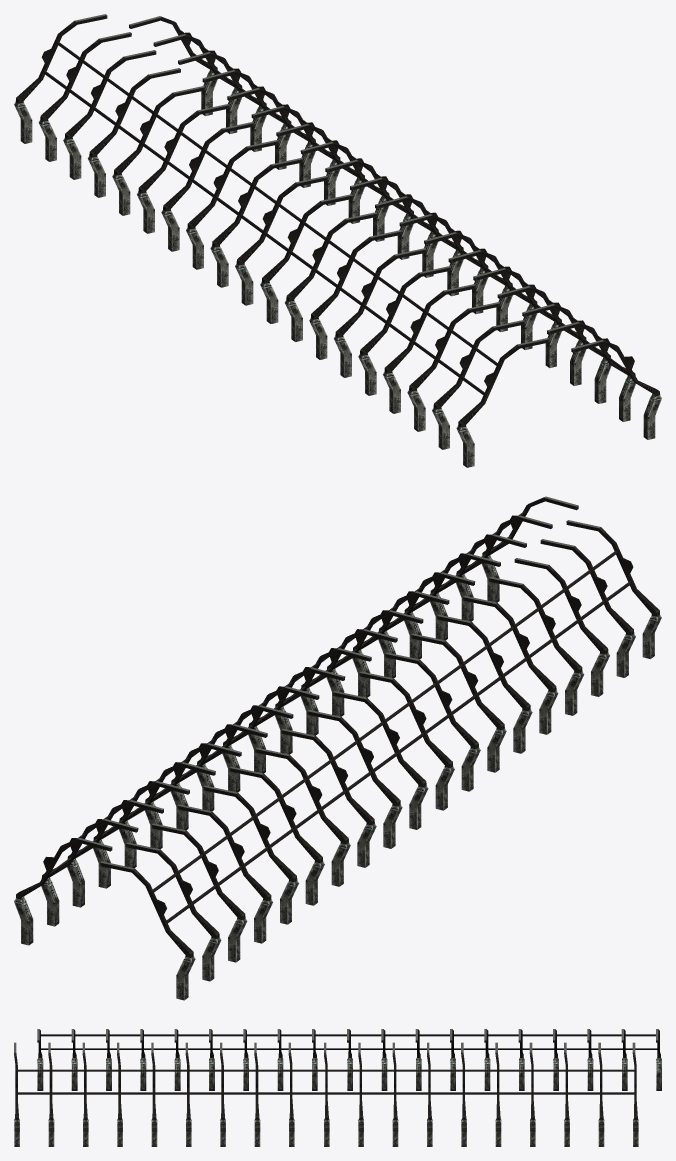
File: Tunnel.fbx
3 views of the same model, one above another, from view 1: azimuth 30°, elevation 25°; view 2: azimuth 150°, elevation 25°; view 3: azimuth 270°, elevation 25° (orthographic). The views are drawn at different scales.
Visible parts, largest first — view 1: polySurface142; view 2: polySurface142; view 3: polySurface142.
Part boxes in pixels (x1,y1,x2,y2): polySurface142: (14, 14, 661, 467); polySurface142: (14, 496, 661, 1000); polySurface142: (14, 1029, 661, 1146).
Bounding box in the file's own units: 23.98 × 13.61 × 104.
